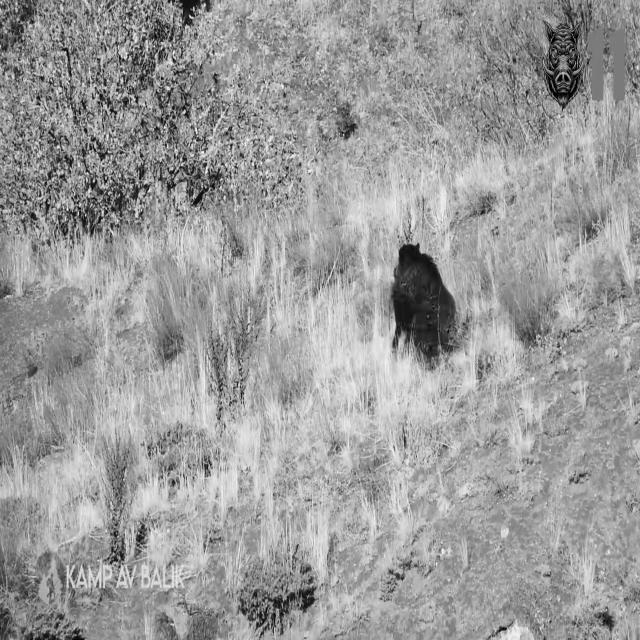boar: (391, 244, 455, 356), (544, 20, 584, 108)
